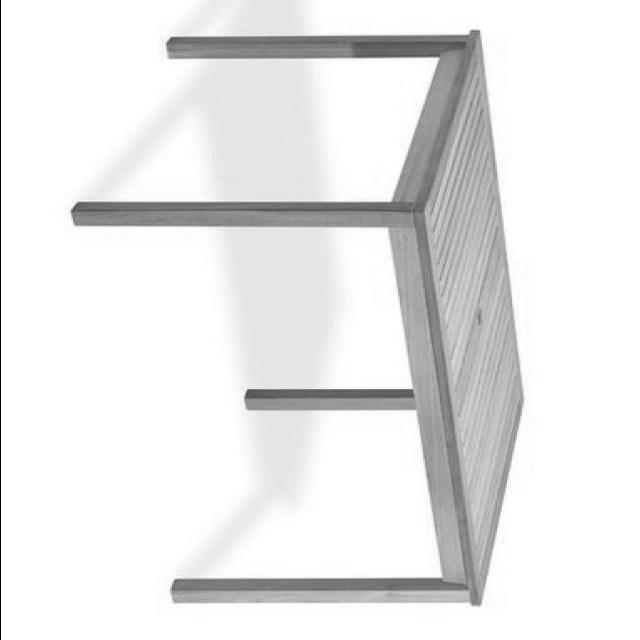table: (69, 30, 526, 604)
